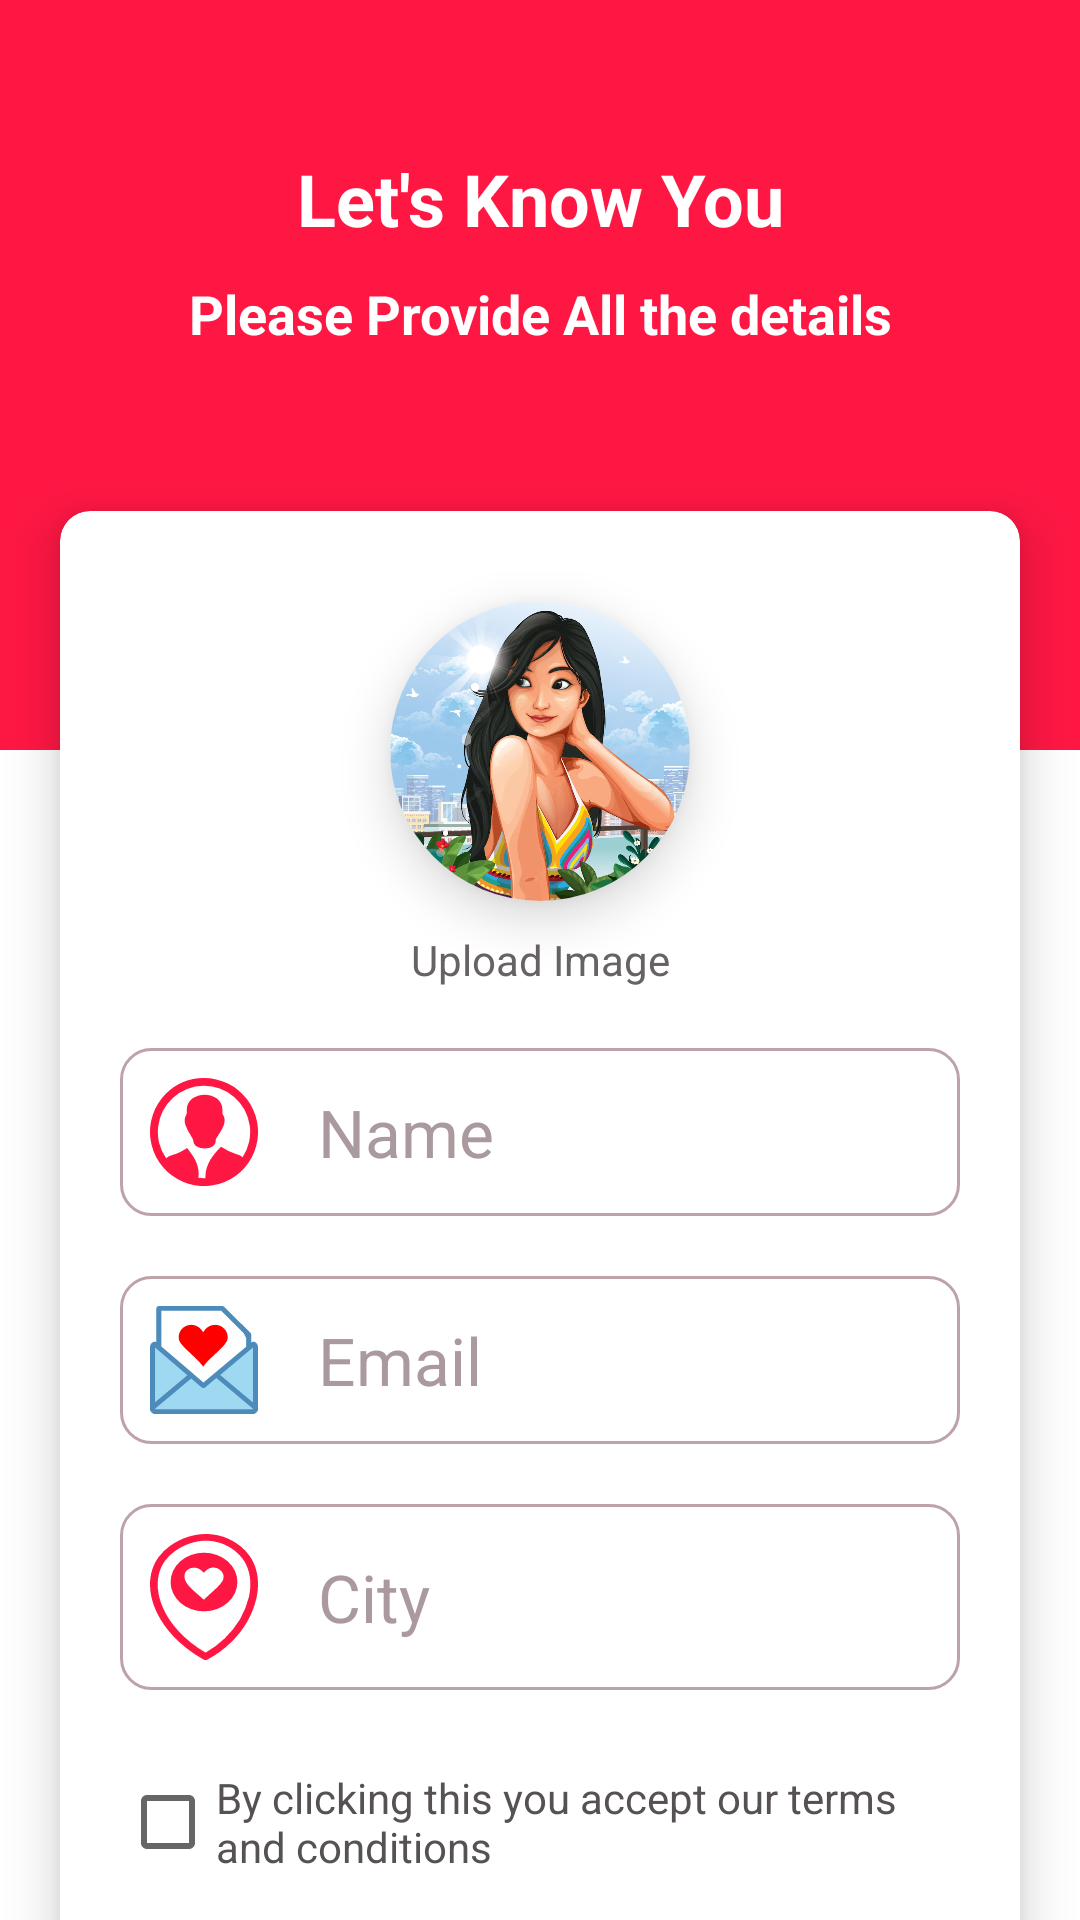

Locate icon controls on the screen. Image size 1080w x 1920h, boxes as (x1, y1, x2, y2).
profilee: (390, 603, 690, 901)
